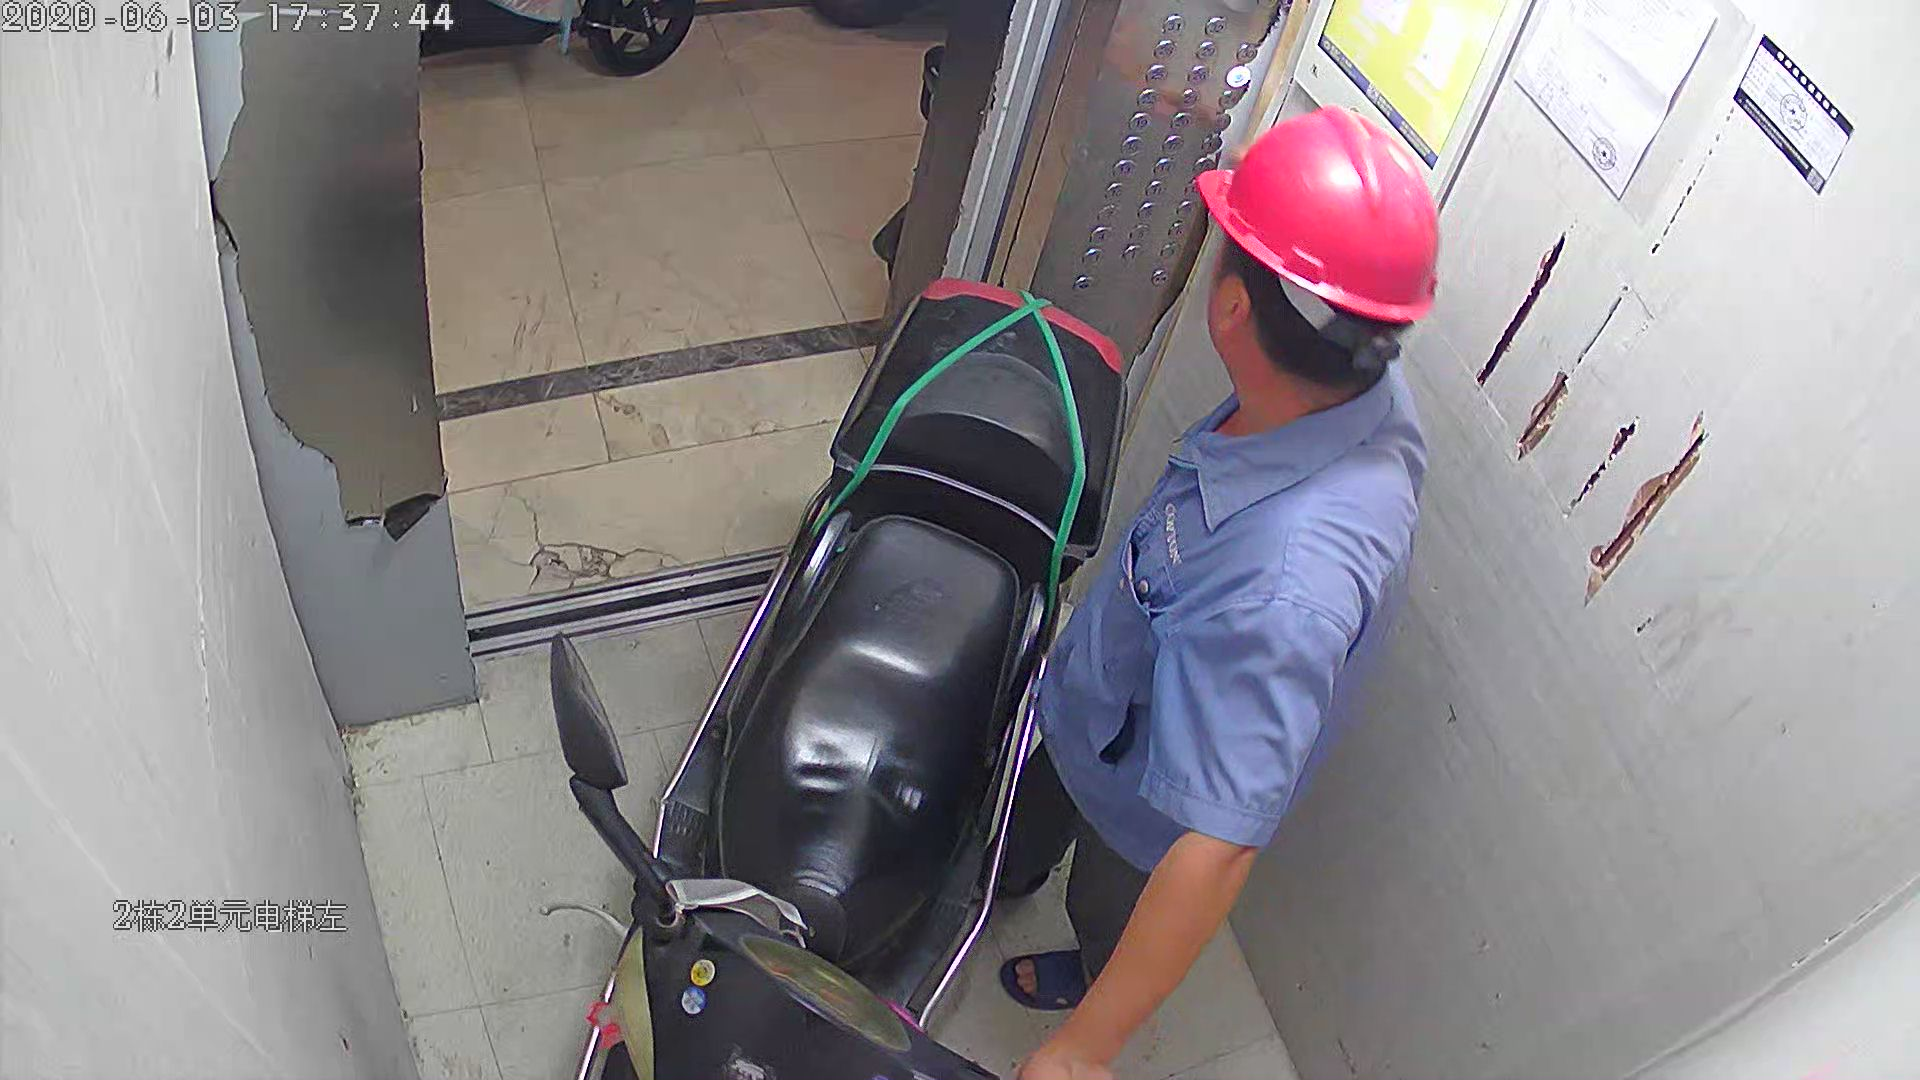Electric-bicycle: (553, 278, 1120, 1080)
